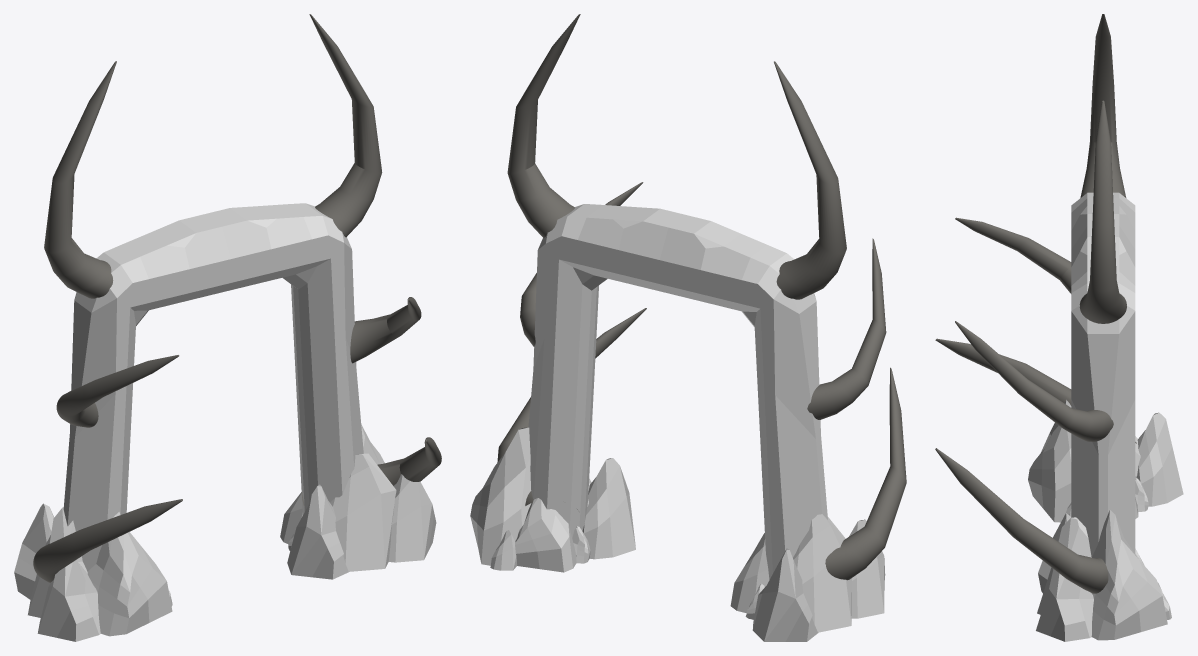
File: gateway.fbx
3 views of the same model, side by side, from view 1: azimuth 30°, elevation 25°; view 2: azimuth 150°, elevation 25°; view 3: azimuth 270°, elevation 25° (orthographic). The views are drawn at different scales.
Visible parts, largest first — view 1: Cube, Cube.002, Cube.001, Circle, Circle.002, Circle.001; view 2: Cube, Cube.002, Cube.001, Circle, Circle.001, Circle.002; view 3: Cube, Cube.002, Circle, Cube.001, Circle.001, Circle.002.
Boxes of the visible parts, bbox=[...] form: Cube: bbox=[63, 203, 363, 571]; Cube.002: bbox=[280, 424, 436, 579]; Cube.001: bbox=[14, 503, 172, 641]; Circle: bbox=[44, 14, 382, 298]; Circle.002: bbox=[56, 297, 421, 427]; Circle.001: bbox=[33, 437, 441, 582]; Cube: bbox=[528, 204, 827, 579]; Cube.002: bbox=[470, 427, 635, 572]; Cube.001: bbox=[730, 514, 885, 641]; Circle: bbox=[507, 14, 846, 299]; Circle.001: bbox=[497, 308, 906, 580]; Circle.002: bbox=[520, 182, 886, 419]; Cube: bbox=[1071, 192, 1135, 556]; Cube.002: bbox=[1036, 510, 1171, 641]; Circle: bbox=[1079, 14, 1126, 323]; Cube.001: bbox=[1028, 400, 1183, 522]; Circle.001: bbox=[935, 338, 1136, 593]; Circle.002: bbox=[955, 217, 1113, 441].
Size of the model in its own units: 793 by 1035 by 470.
